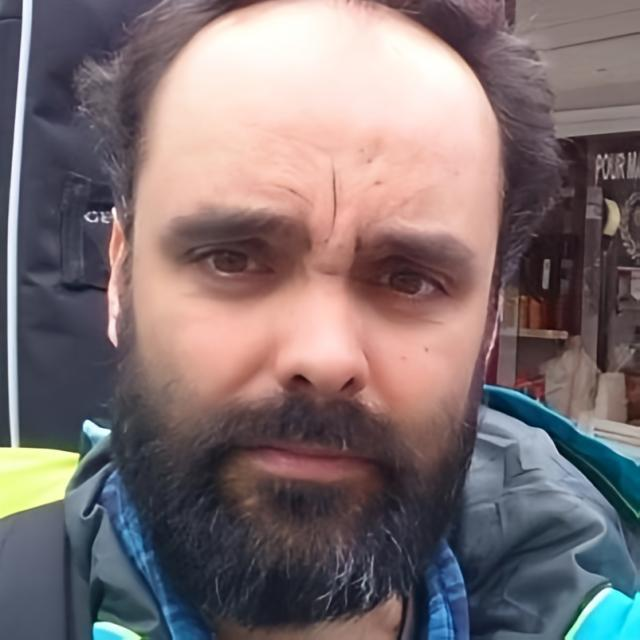sad: (133, 105, 505, 612)
